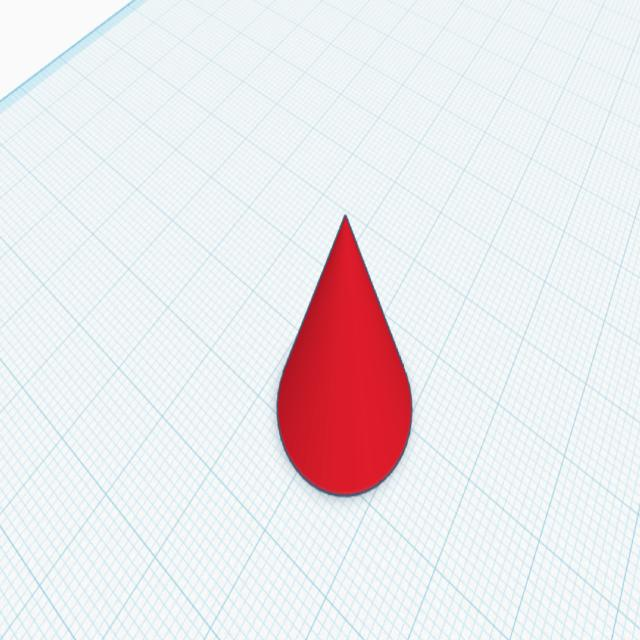cone: (272, 208, 418, 509)
